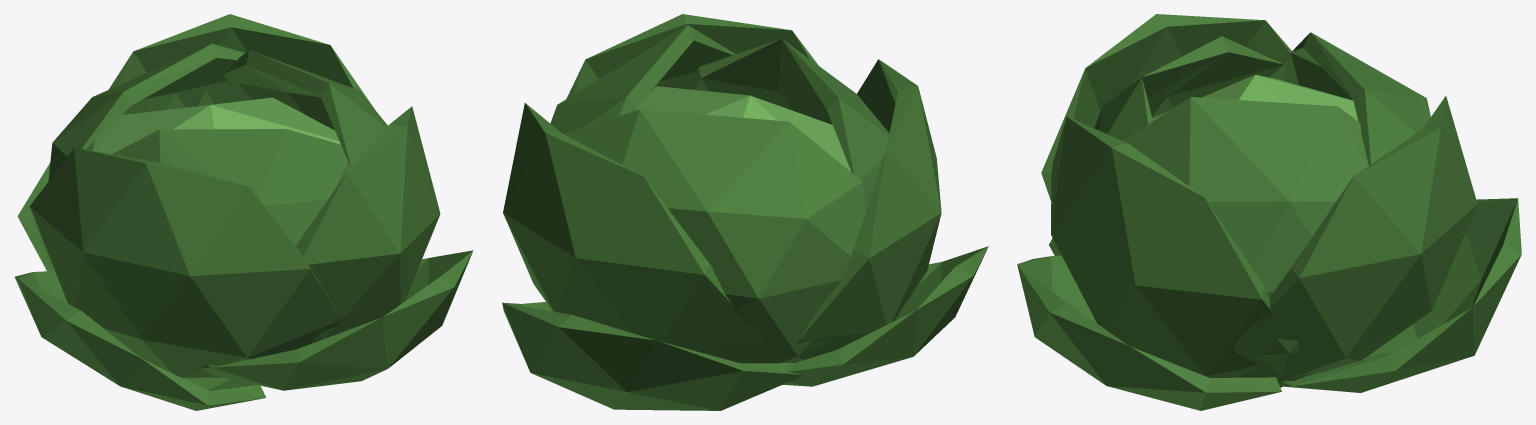
File: Cabbage_02.fbx
3 views of the same model, side by side, from view 1: azimuth 30°, elevation 25°; view 2: azimuth 150°, elevation 25°; view 3: azimuth 270°, elevation 25° (orthographic). The views are drawn at different scales.
Visible parts, largest first — view 1: Cabbage_02; view 2: Cabbage_02; view 3: Cabbage_02.
Boxes of the visible parts, x1,y1,x2,y2 form: Cabbage_02: [15, 14, 473, 410]; Cabbage_02: [502, 14, 988, 410]; Cabbage_02: [1017, 14, 1521, 410].
Size of the model in its own units: 23.19 by 16.43 by 24.33.
